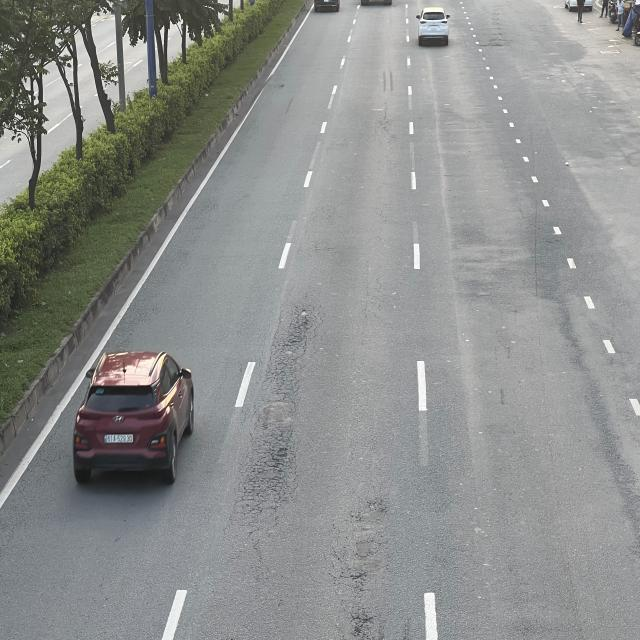car: (72, 347, 197, 484), (416, 7, 451, 49)
